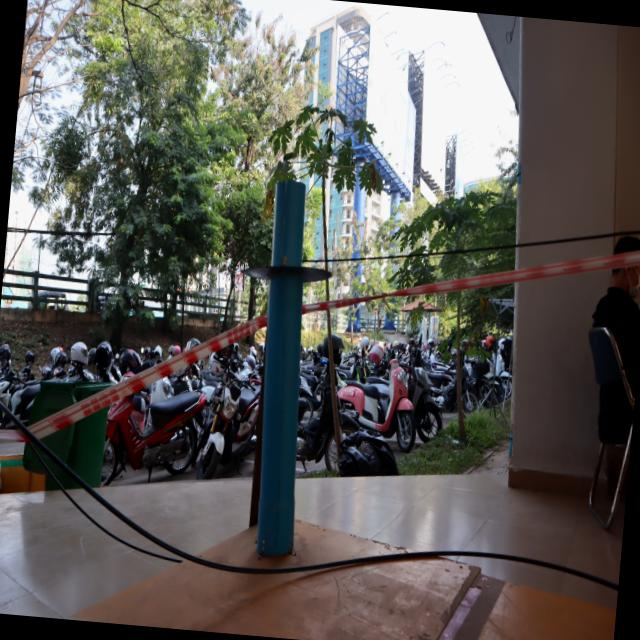pole: (232, 166, 346, 358)
